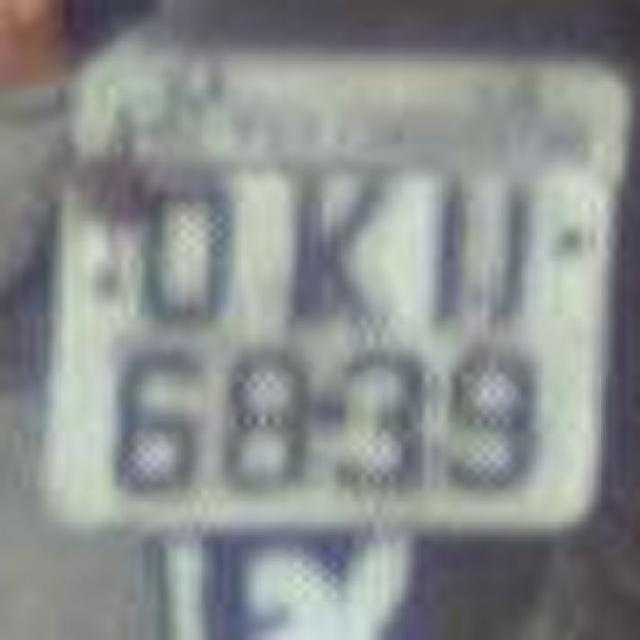3: (292, 328, 456, 508), (420, 320, 565, 505)
6: (89, 332, 216, 516)
8: (196, 336, 336, 512)
D: (120, 160, 240, 352)
U: (404, 156, 531, 336)
